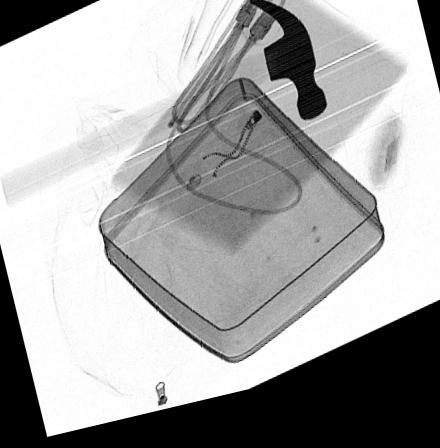Hammer: (0, 5, 327, 208)
